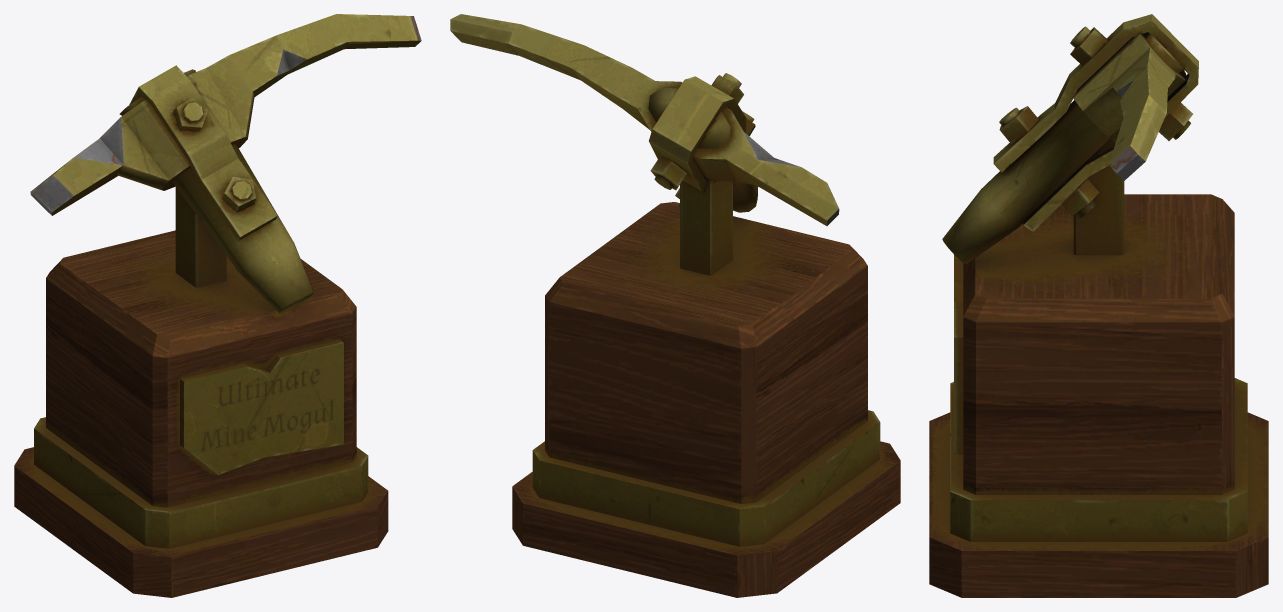
The model's file is Trophy_BrokenMineMogul.glb.
3 renders of one model, left to right at view 1: azimuth 30°, elevation 25°; view 2: azimuth 150°, elevation 25°; view 3: azimuth 270°, elevation 25°, orthographic. The views are drawn at different scales.
Visible parts, largest first — view 1: Trophy_BrokenMineMogul; view 2: Trophy_BrokenMineMogul; view 3: Trophy_BrokenMineMogul.
Boxes of the visible parts, x1,y1,x2,y2 form: Trophy_BrokenMineMogul: [14, 14, 421, 597]; Trophy_BrokenMineMogul: [450, 14, 900, 597]; Trophy_BrokenMineMogul: [929, 14, 1268, 597].
Size of the model in its own units: 0.6708 by 0.7626 by 0.4514.
1 material, 1 textured.
